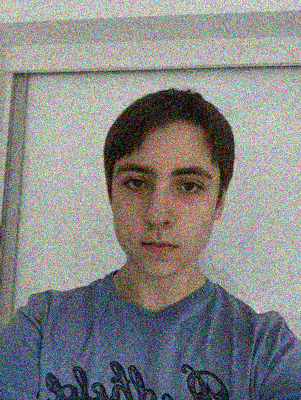without_mask: (111, 152, 216, 279)
